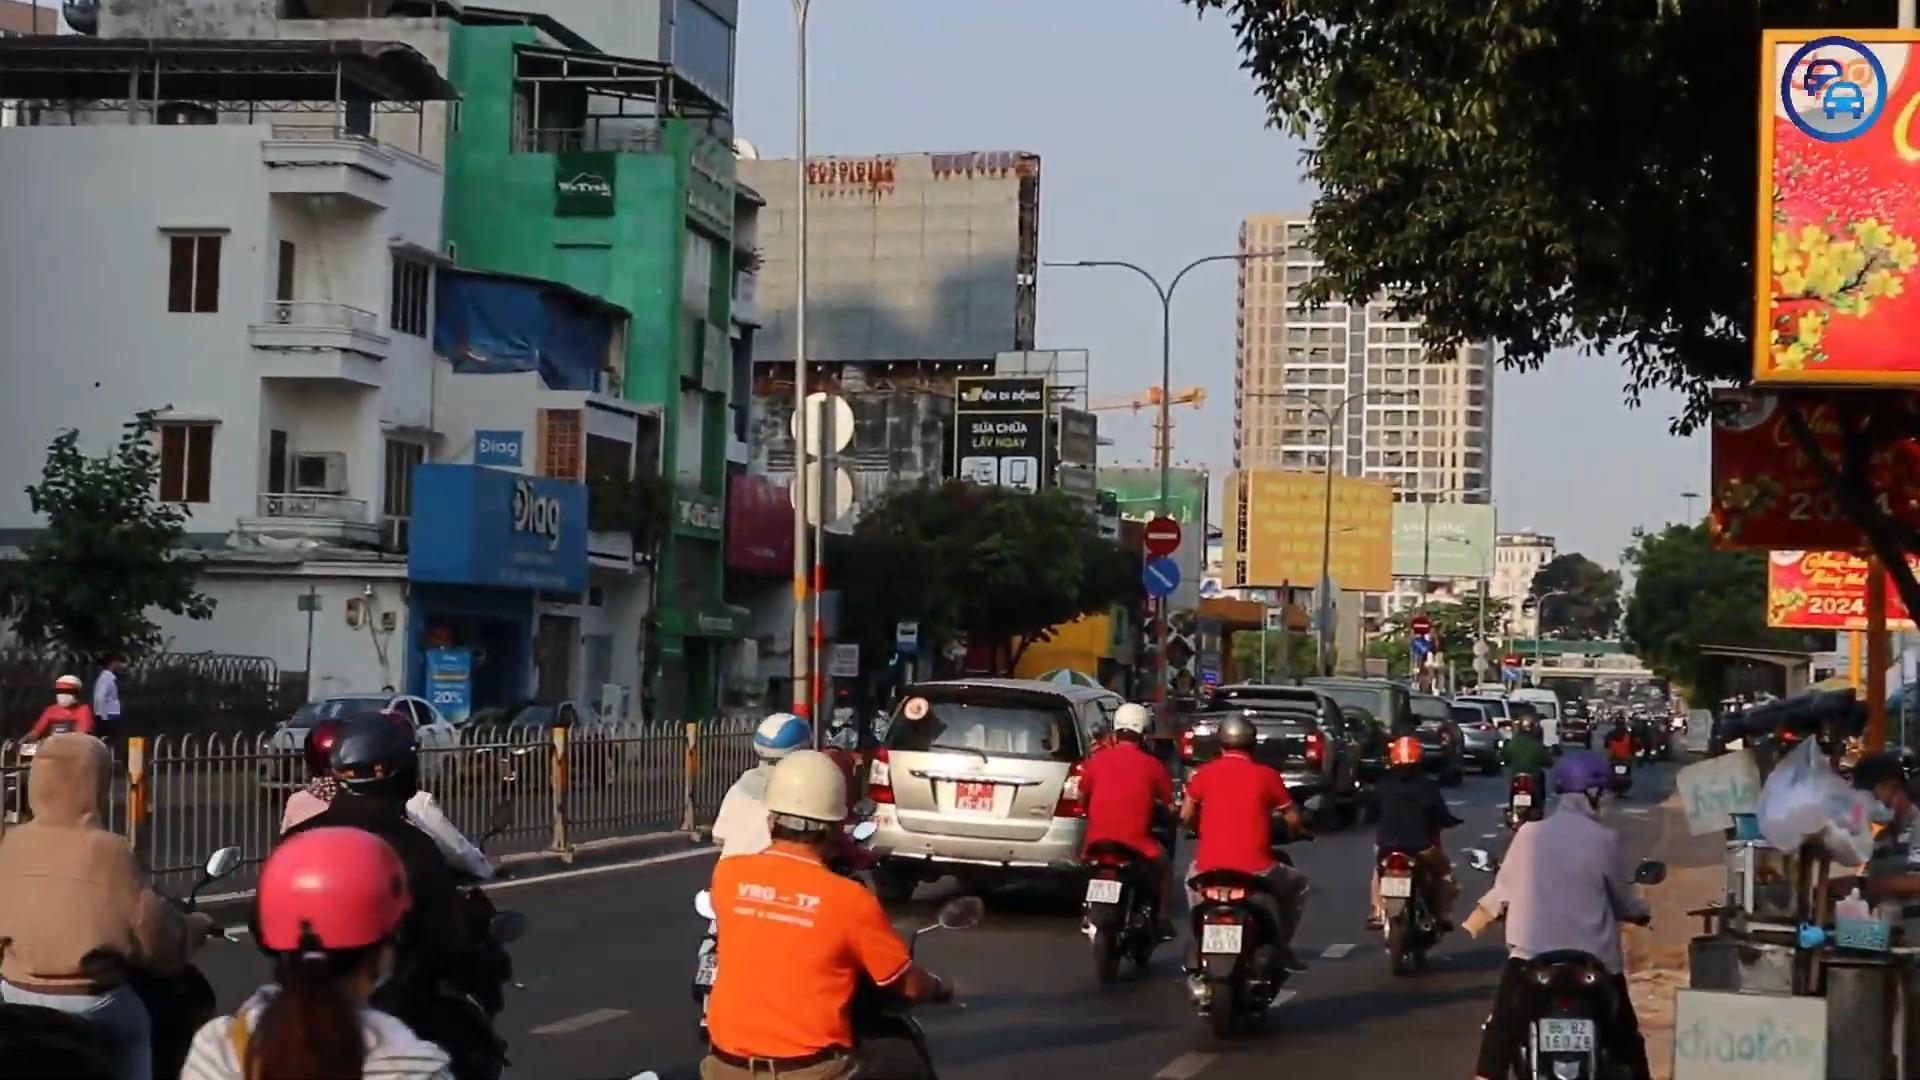bien_so: (1538, 1017, 1595, 1054), (953, 778, 997, 812), (1200, 923, 1244, 954), (1085, 879, 1123, 905), (1379, 875, 1413, 898)
